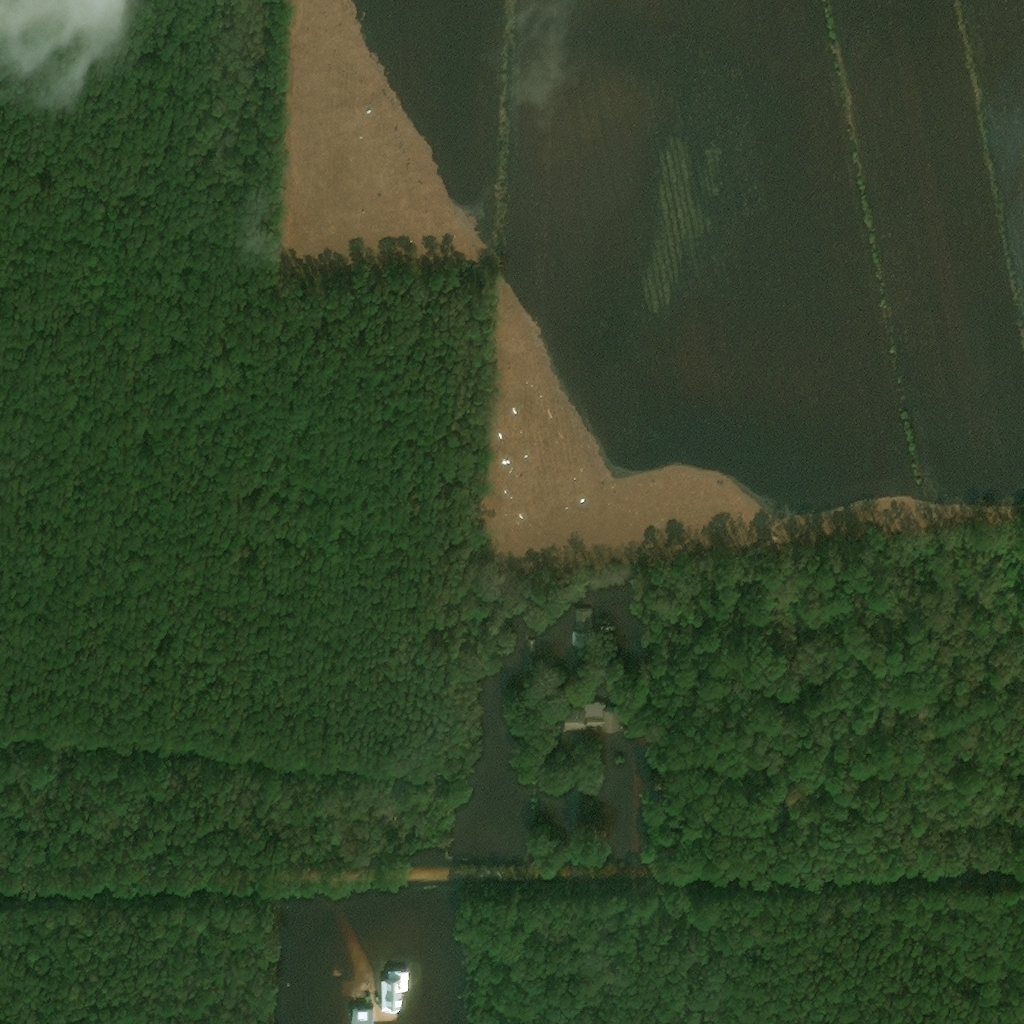major_damage: (560, 701, 618, 730), (574, 608, 590, 628), (527, 641, 535, 653)
minor_damage: (378, 969, 405, 1012), (344, 1006, 371, 1023)
